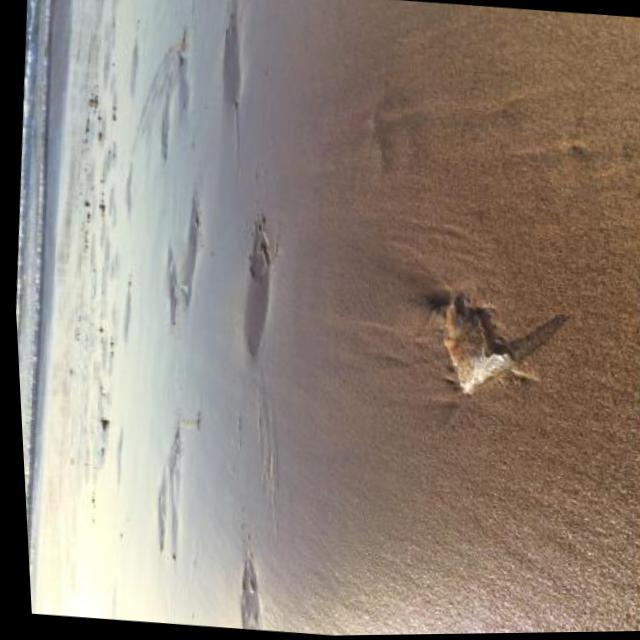plastic: (434, 294, 524, 398)
